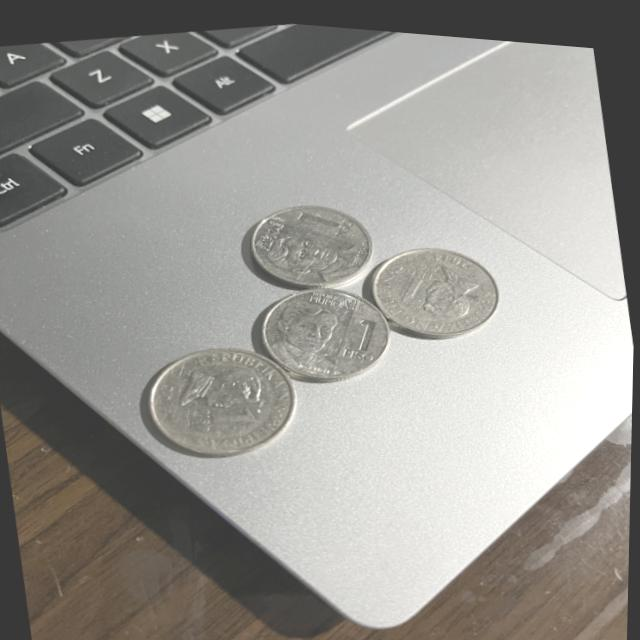1_New_Front: (269, 274, 388, 375), (255, 194, 368, 279)
1_Old_Front: (169, 351, 271, 432), (393, 244, 483, 324)
